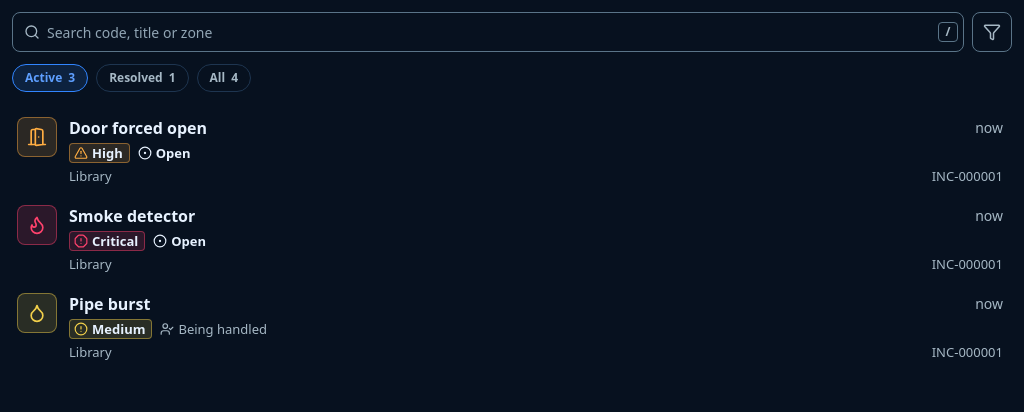
Test: IncidentFeed › category filter › restores the list when the same category is chosen again
Click the button named "Filter by category" at [992, 32], box [972,12,1012,52]
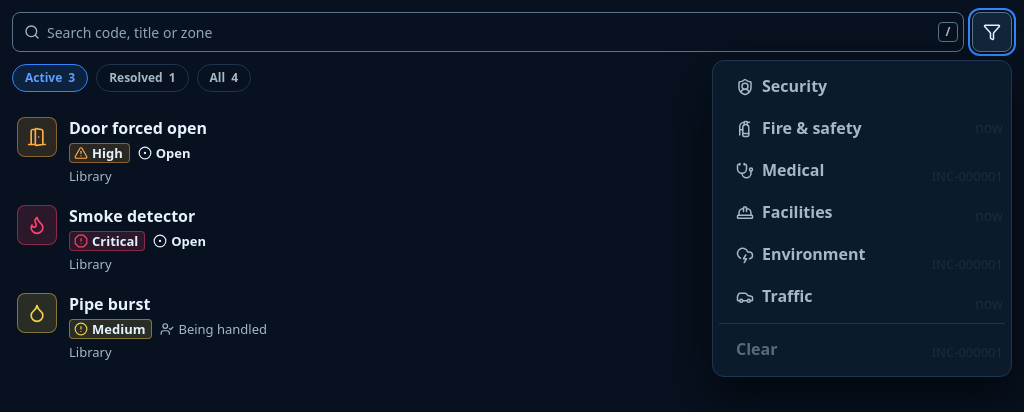
Click the button "Security" at [795, 86], box [719,67,1005,107]
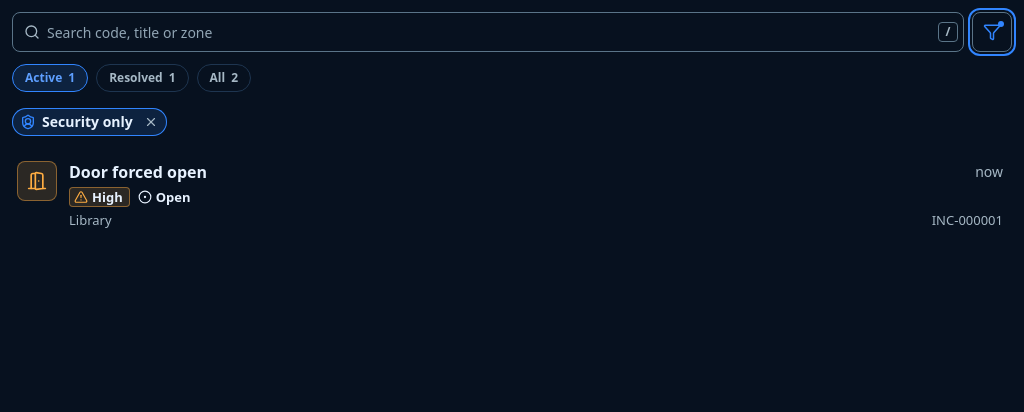
Click the button named "Filter by category" at [992, 32], box [972,12,1012,52]
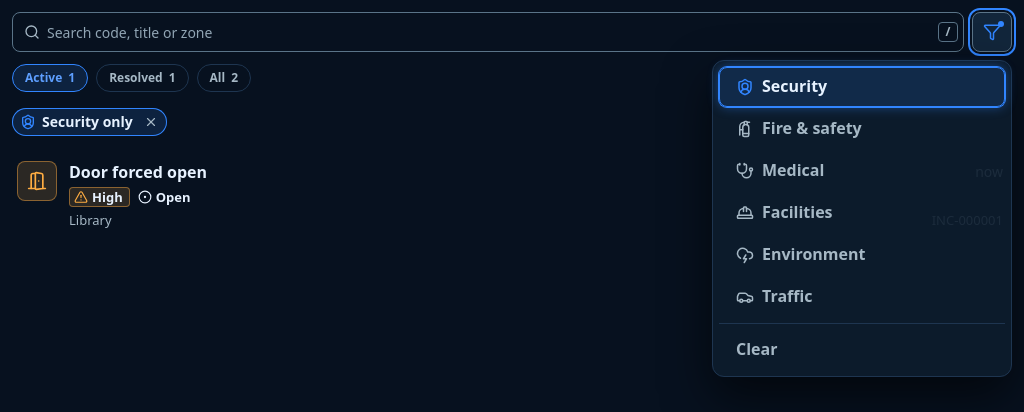
Click the button "Security" at [795, 86], box [719,67,1005,107]
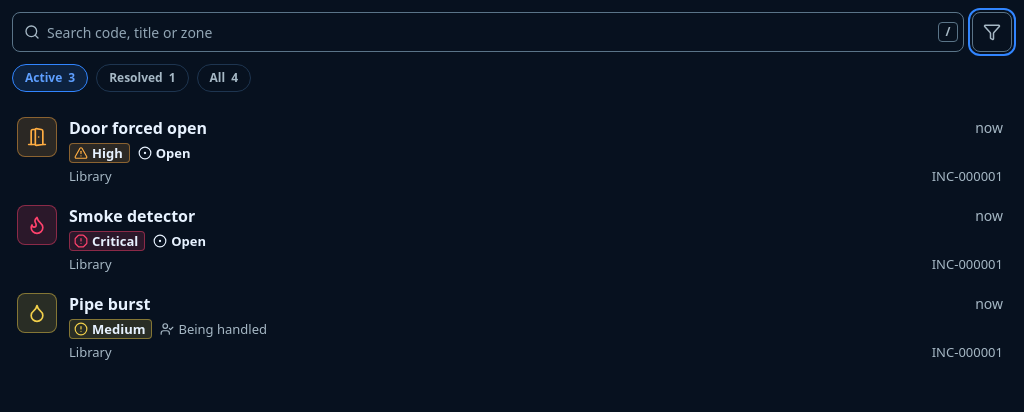
Expected: the text "Smoke detector" is shown, [69,205,195,227]
Expected: the text "Security only" is gone
